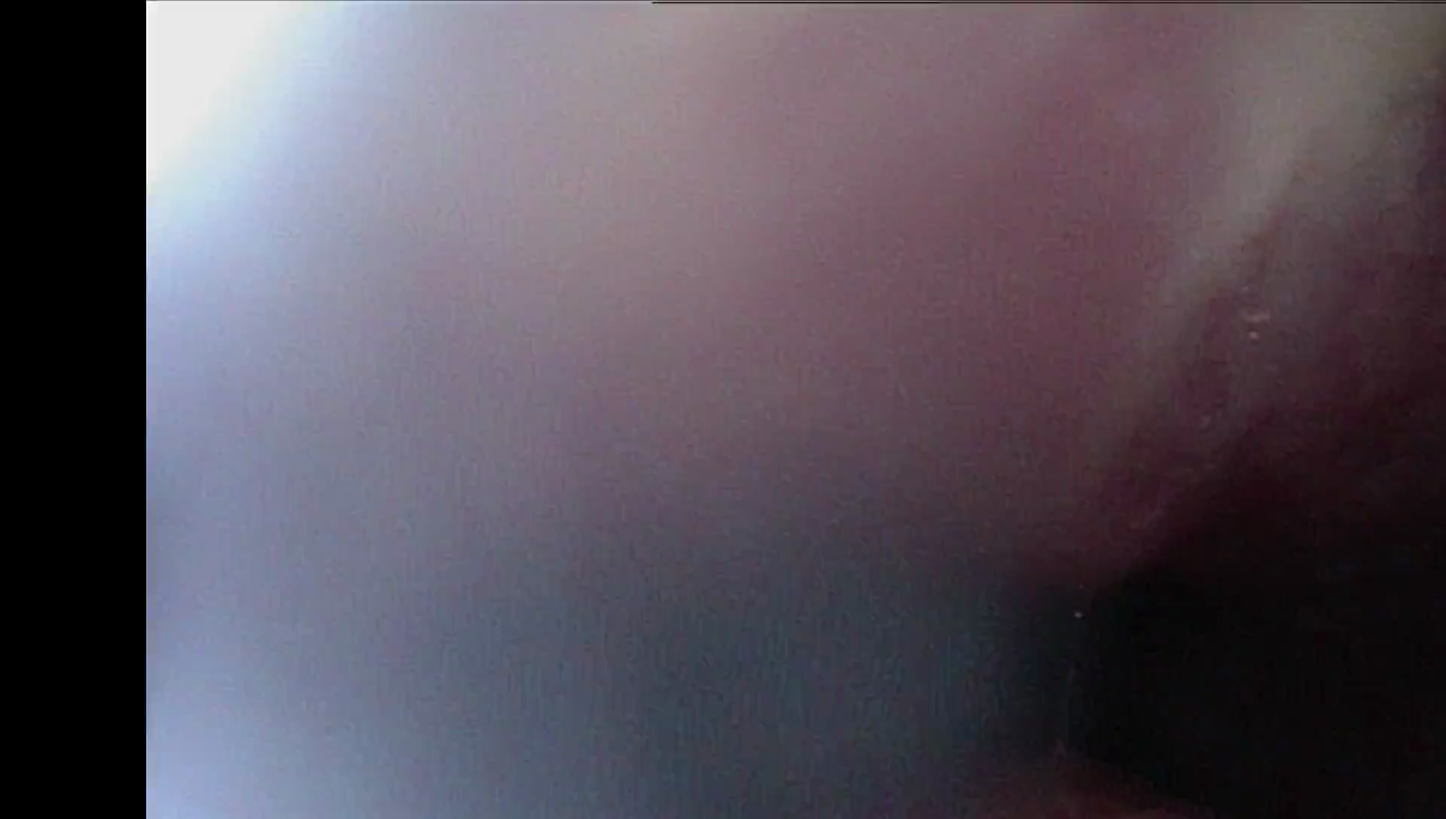close_wall: (154, 0, 709, 394)
next: (1022, 336, 1446, 819)
